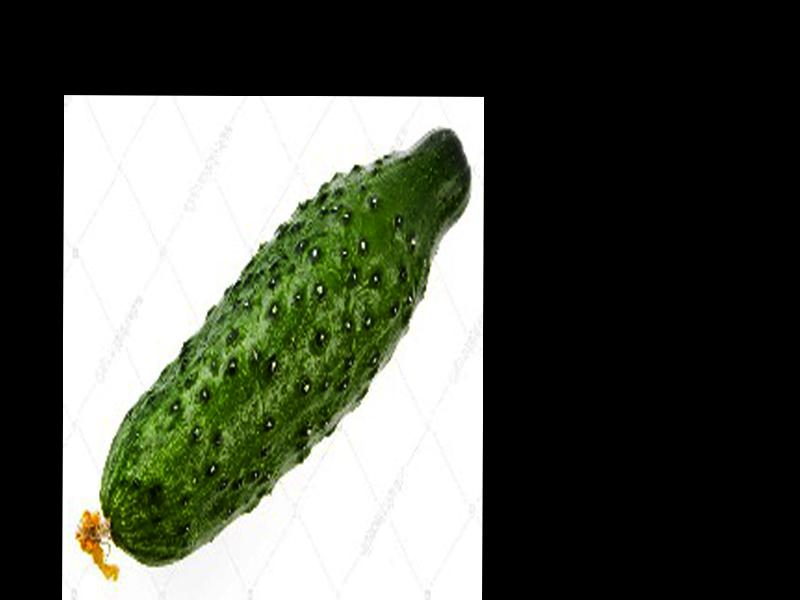Cucumber: (76, 126, 468, 579)
